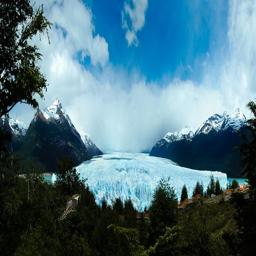Cuckoo: (58, 194, 81, 221)
